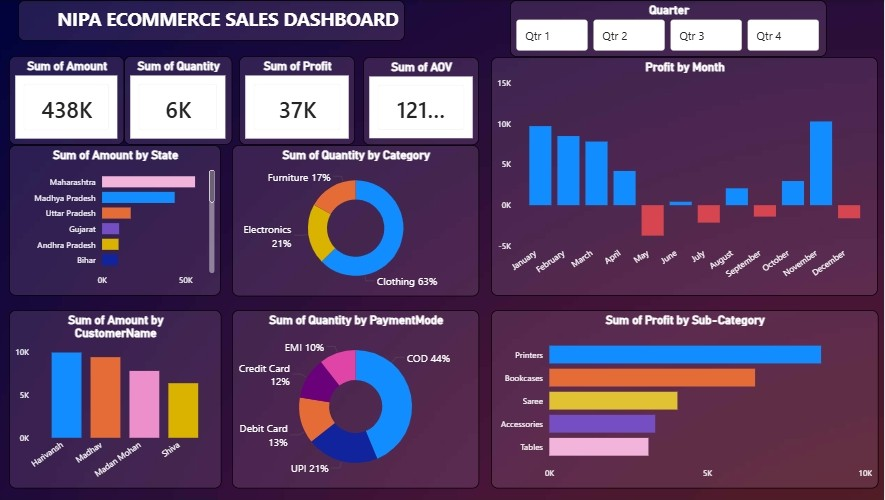

What the dashboard file says about the page in this screenshot:
{"tool":"powerbi","page":{"name":"Page 1","canvas":[1280,720],"ordinal":0},"visuals":[{"type":"textbox","box":[31.7,0,557.3,59],"z":0},{"type":"columnChart","title":"Profit by Month","fields":{"Y":["Sum(Details.Profit)"],"Category":["Orders.Order Date.Variation.Date Hierarchy.Month"]},"box":[712.8,82.1,557.3,344.2],"z":1000},{"type":"barChart","fields":{"Category":["Details.Sub-Category"],"Y":["Sum(Details.Profit)"]},"box":[712.2,446.8,557.7,257],"z":2000},{"type":"donutChart","fields":{"Category":["Details.Category"],"Y":["Sum(Details.Quantity)"]},"box":[339.3,208.3,356.1,218.4],"z":3000},{"type":"donutChart","fields":{"Category":["Details.PaymentMode"],"Y":["Sum(Details.Quantity)"]},"box":[339.3,446.8,356.1,257],"z":4000},{"type":"cardVisual","title":"Sum of Amount","fields":{"Data":["Sum(Details.Amount)"]},"box":[5.8,80.6,165.6,128.2],"z":5000},{"type":"cardVisual","title":"Sum of Quantity","fields":{"Data":["Sum(Details.Quantity)"]},"box":[171.4,80.6,168.5,128.2],"z":6000},{"type":"cardVisual","title":"Sum of Profit","fields":{"Data":["Sum(Details.Profit)"]},"box":[349.9,80.6,167,128.2],"z":7000},{"type":"cardVisual","title":"Sum of AOV","fields":{"Data":["Sum(Details.AOV)"]},"box":[528.5,82.1,167,126.7],"z":8000},{"type":"barChart","fields":{"Y":["Sum(Details.Amount)"],"Category":["Orders.State"]},"box":[18.7,208.8,305.3,217.4],"z":9000},{"type":"columnChart","fields":{"Category":["Orders.CustomerName"],"Y":["Sum(Details.Amount)"]},"box":[18.5,446.8,305.7,257],"z":10000},{"type":"advancedSlicerVisual","fields":{"Values":["Orders.Order Date.Variation.Date Hierarchy.Quarter"]},"box":[740.2,0,456.5,82.1],"z":11000}]}

Visuals, with their boxes in screenshot pixels (x1, y1, x2, y2), scaled from the page's 1280x720 canvas onto the 885x500 screenshot:
textbox: pyautogui.locateOnScreen(22, 0, 407, 41)
"Profit by Month" columnChart: pyautogui.locateOnScreen(493, 57, 878, 296)
barChart - Details.Sub-Category x Sum(Details.Profit): pyautogui.locateOnScreen(492, 310, 878, 489)
donutChart - Details.Category x Sum(Details.Quantity): pyautogui.locateOnScreen(235, 145, 481, 296)
donutChart - Details.PaymentMode x Sum(Details.Quantity): pyautogui.locateOnScreen(235, 310, 481, 489)
"Sum of Amount" cardVisual: pyautogui.locateOnScreen(4, 56, 119, 145)
"Sum of Quantity" cardVisual: pyautogui.locateOnScreen(119, 56, 235, 145)
"Sum of Profit" cardVisual: pyautogui.locateOnScreen(242, 56, 357, 145)
"Sum of AOV" cardVisual: pyautogui.locateOnScreen(365, 57, 481, 145)
barChart - Sum(Details.Amount) x Orders.State: pyautogui.locateOnScreen(13, 145, 224, 296)
columnChart - Orders.CustomerName x Sum(Details.Amount): pyautogui.locateOnScreen(13, 310, 224, 489)
advancedSlicerVisual - Orders.Order Date.Variation.Date Hierarchy.Quarter: pyautogui.locateOnScreen(512, 0, 827, 57)
